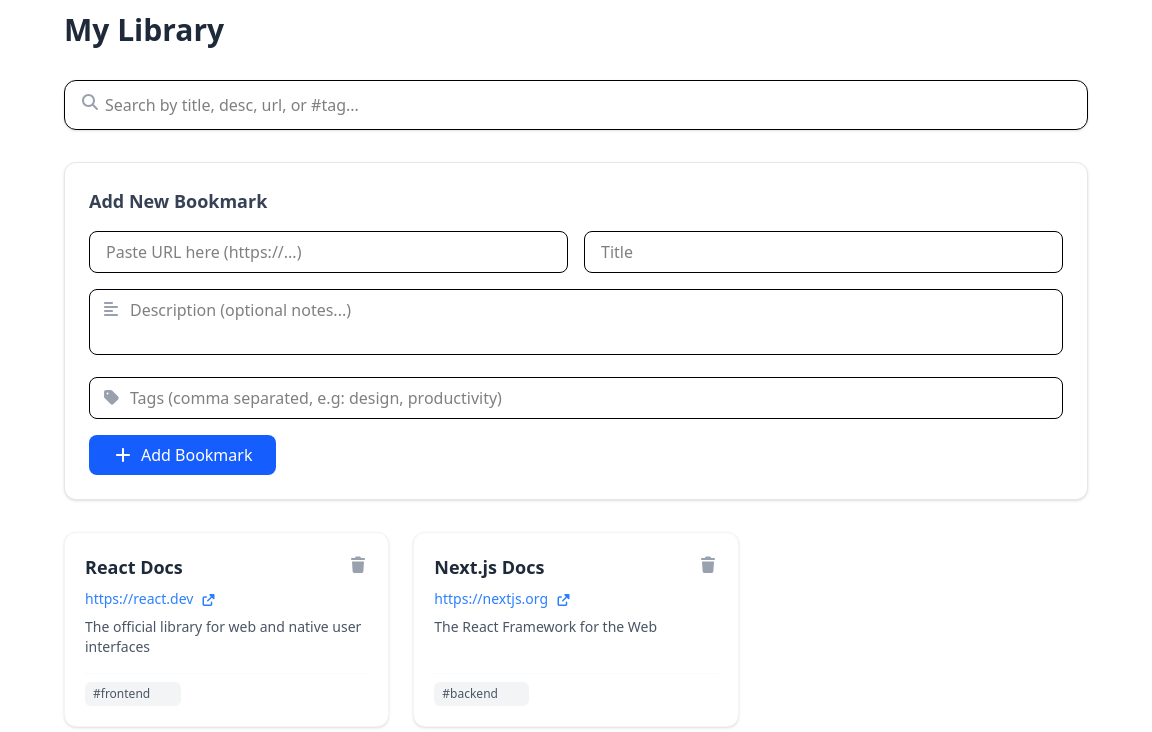
it: BookmarksPage › filters bookmarks by search term
Expected: the heading "React Docs" is shown, left=85, top=553, right=183, bottom=581
Type "frontend" into the field with placeholder "Search by title, desc, url, or #tag..." at (576, 105), box left=64, top=80, right=1088, bottom=130
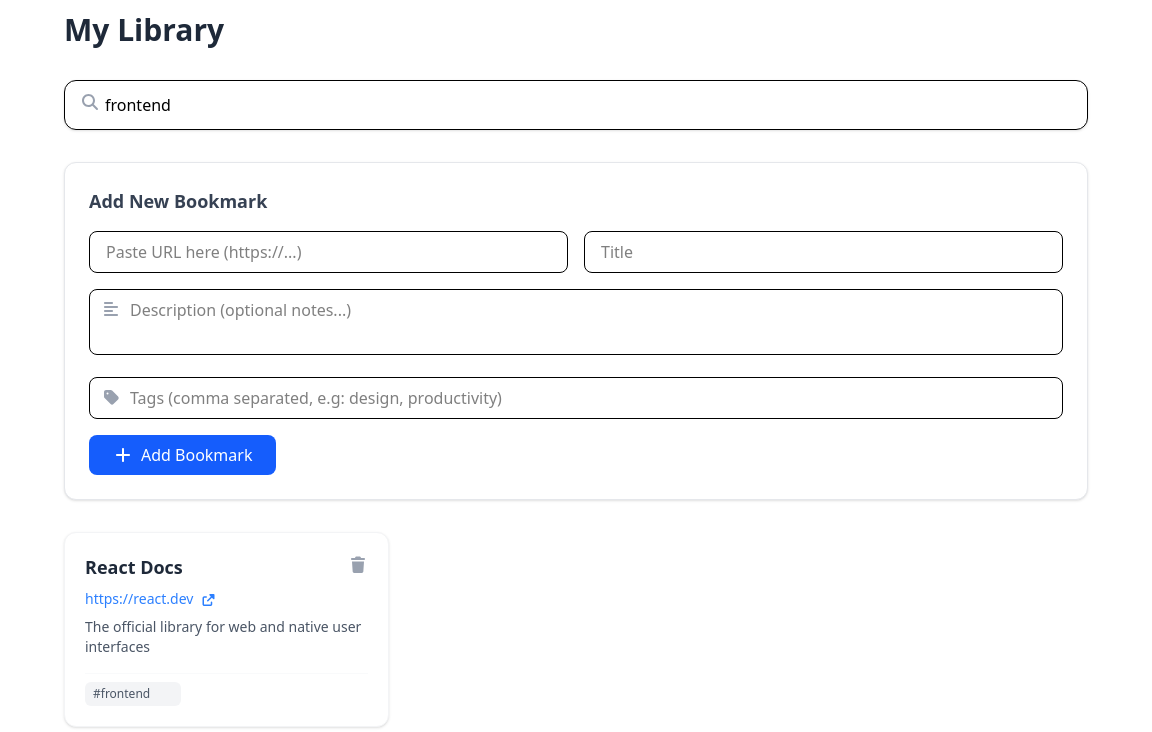
Expected: the heading "React Docs" is shown, left=85, top=553, right=183, bottom=581
Expected: the heading "Next.js Docs" is gone
